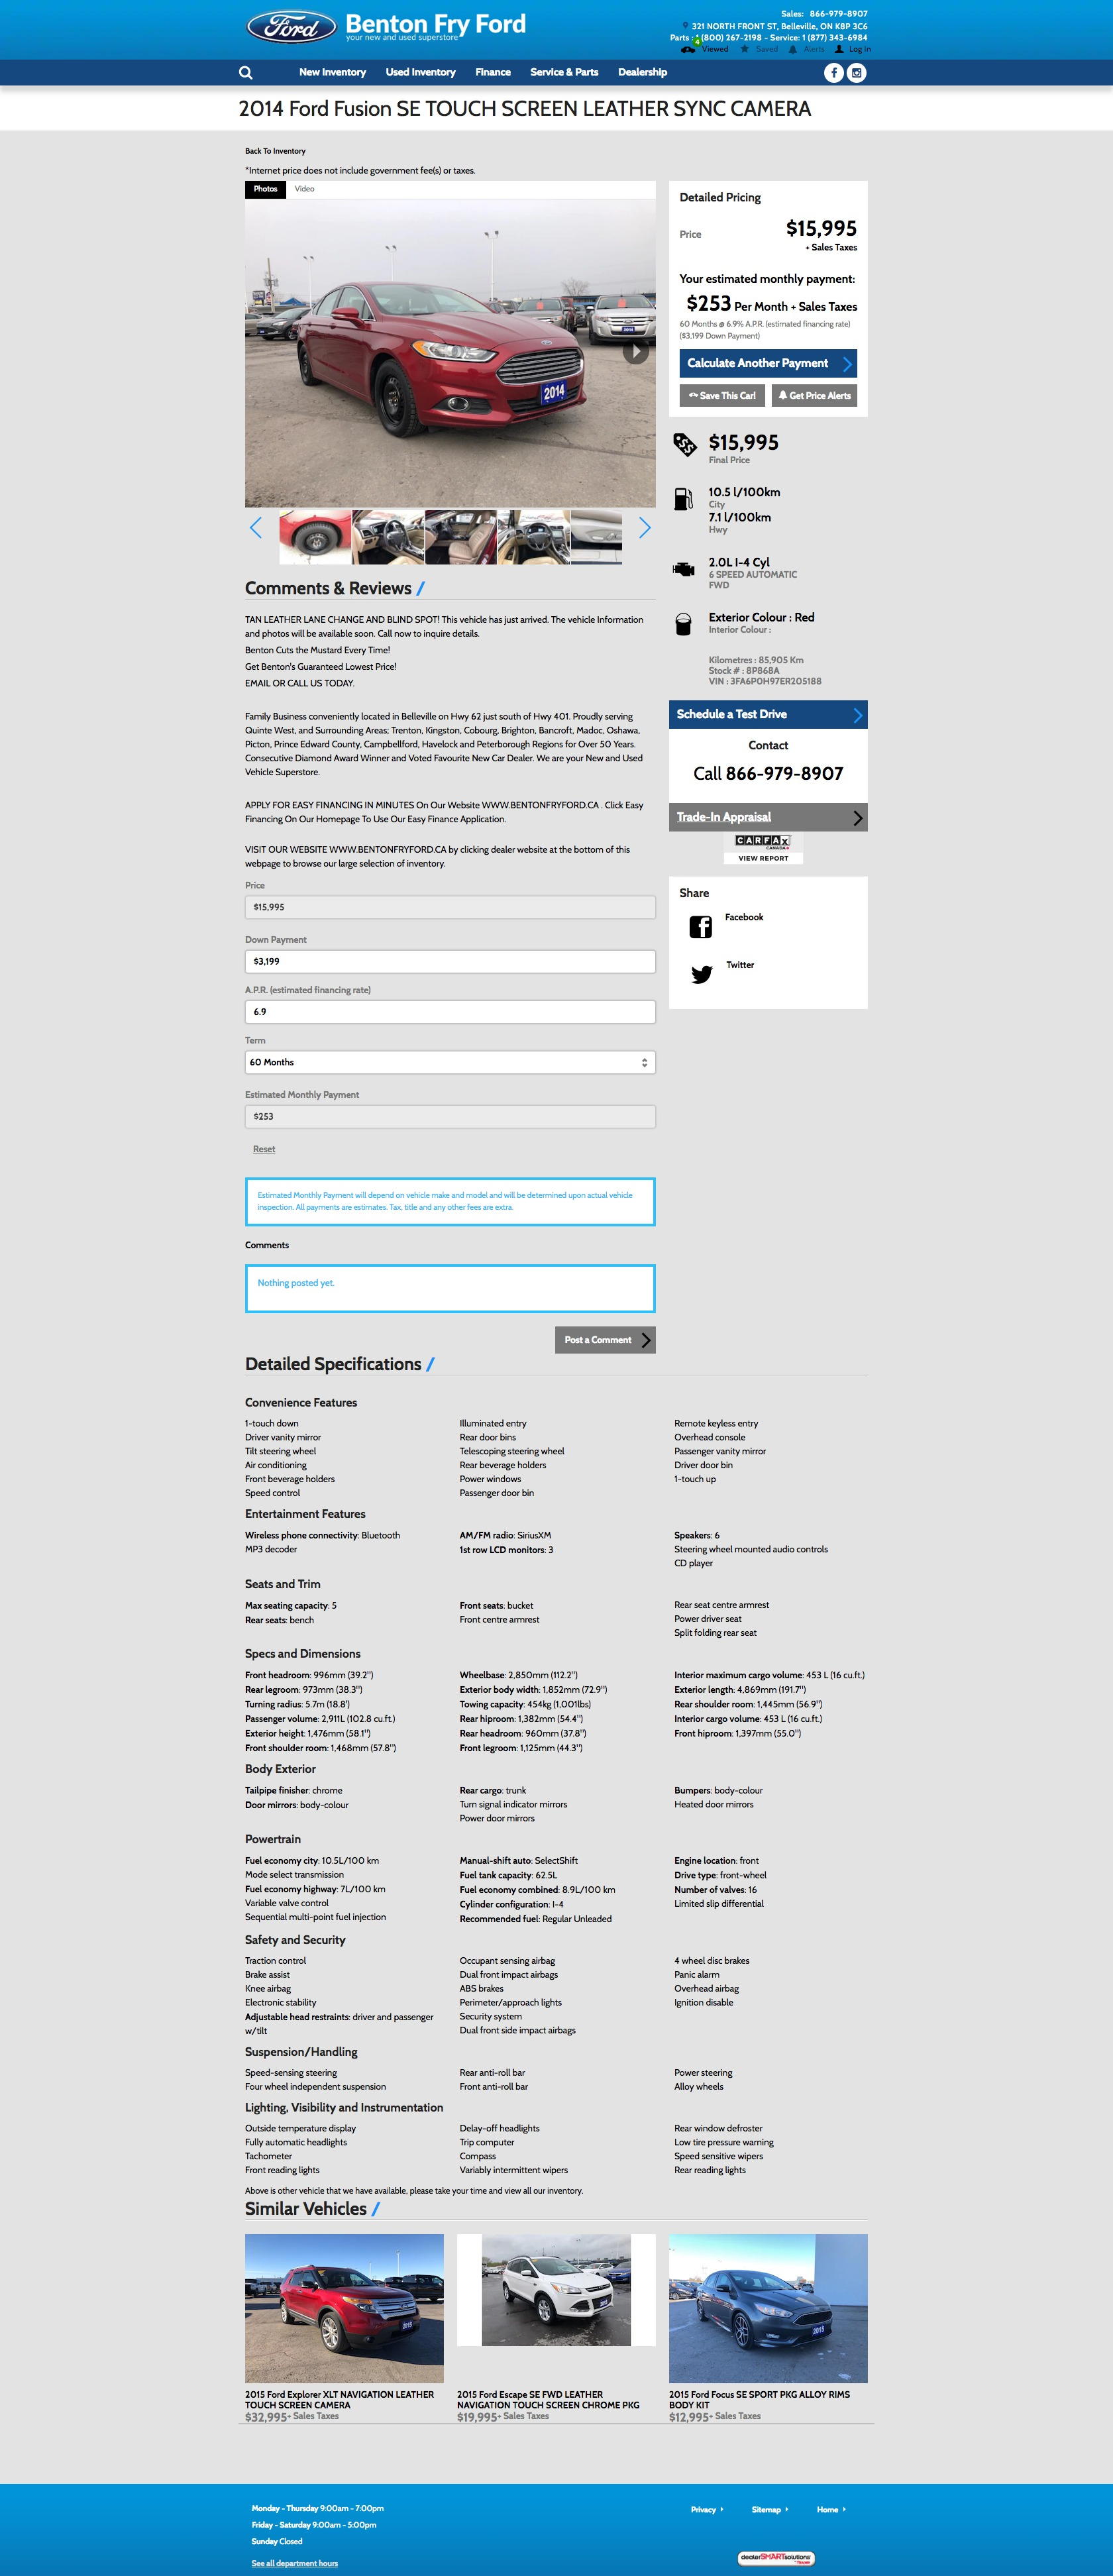car: (639, 517, 653, 540)
